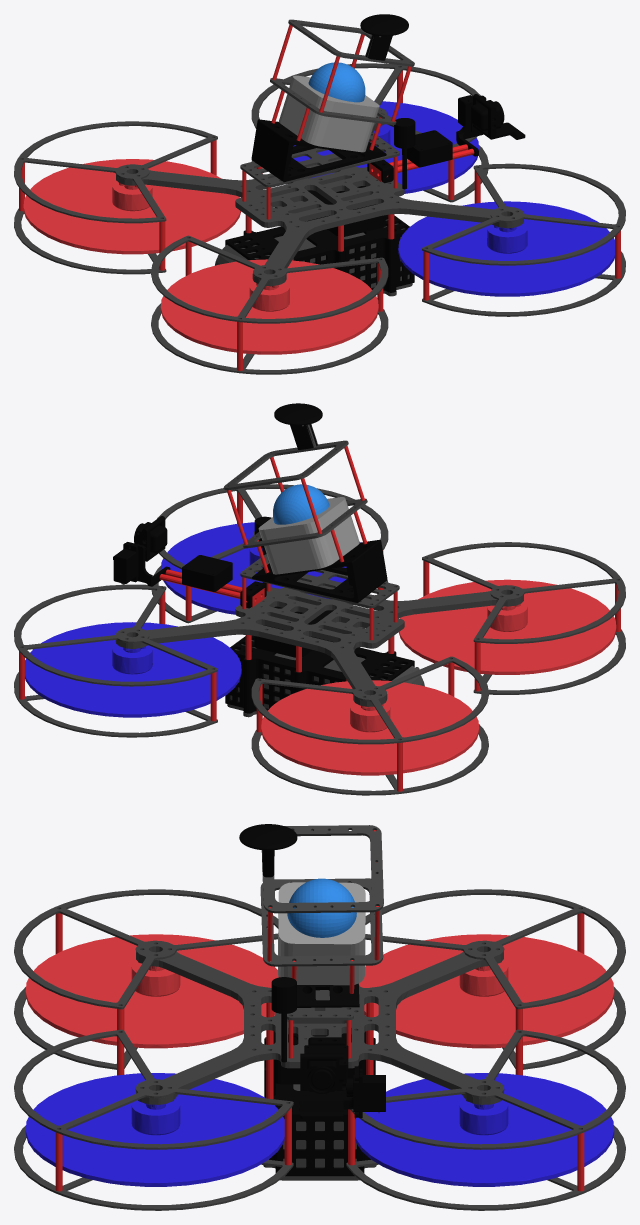
The model's file is uav-slope.dae.
3 renders of one model, top to bottom at view 1: azimuth 30°, elevation 25°; view 2: azimuth 150°, elevation 25°; view 3: azimuth 270°, elevation 25°, orthographic. The views are drawn at different scales.
Visible parts, largest first — view 1: 缩小版; view 2: 缩小版; view 3: 缩小版.
Boxes of the visible parts, x1=… form: 缩小版: x1=14, y1=14, x2=625, y2=374; 缩小版: x1=14, y1=403, x2=625, y2=795; 缩小版: x1=14, y1=824, x2=625, y2=1210.
Bounding box in the file's own units: 0.4222 × 0.4222 × 0.2499.
